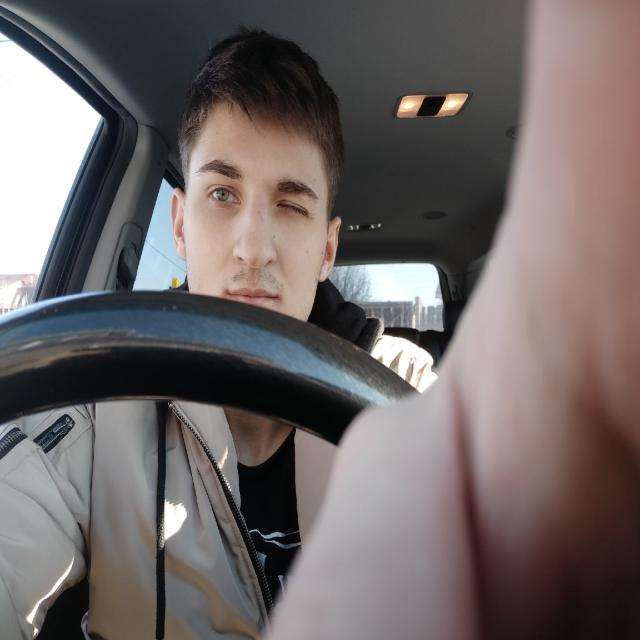Eyeclosed: (277, 197, 309, 223)
Eyeopen: (208, 183, 242, 208)
